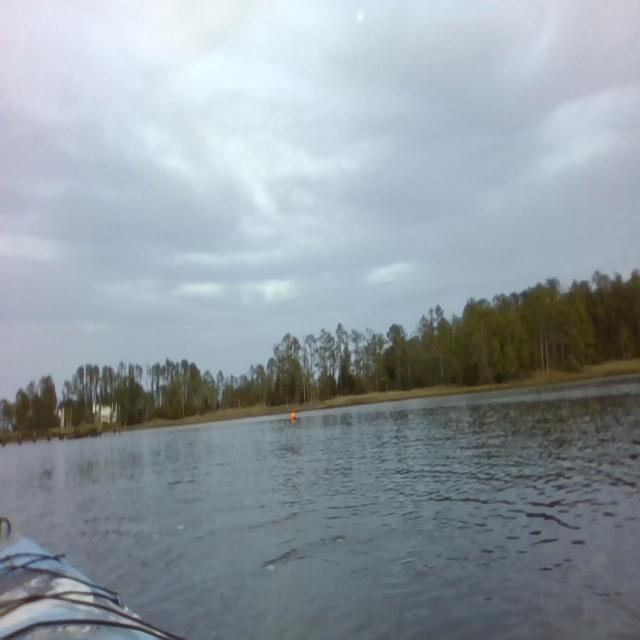Buoy: (289, 410, 297, 422)
